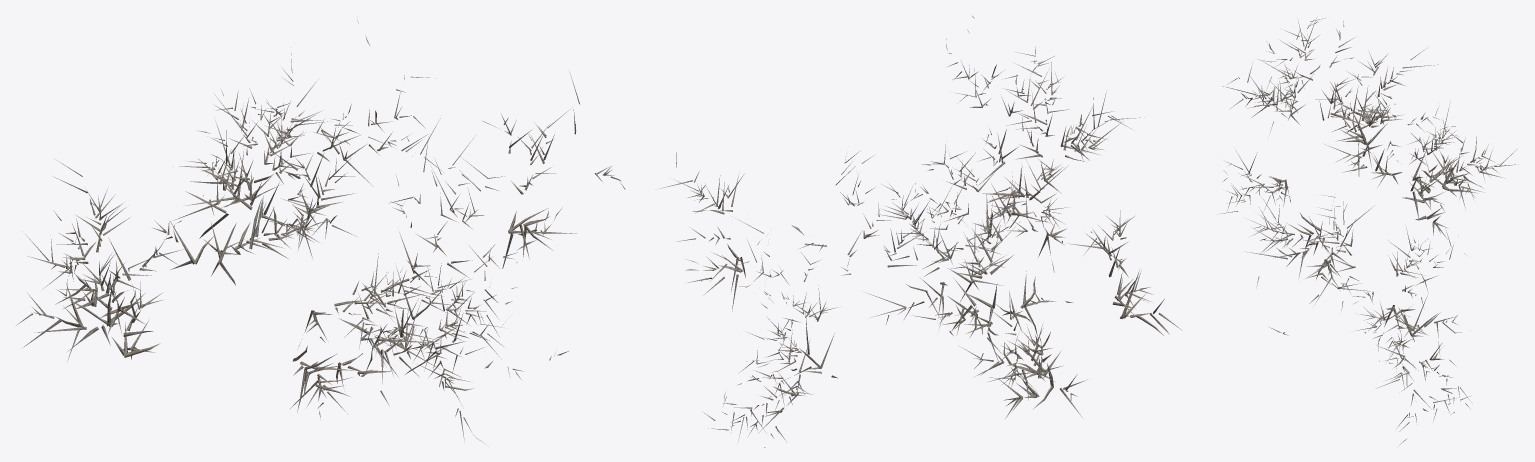
File: tree_b.glb
3 views of the same model, side by side, from view 1: azimuth 30°, elevation 25°; view 2: azimuth 150°, elevation 25°; view 3: azimuth 270°, elevation 25° (orthographic). The views are drawn at different scales.
Visible parts, largest first — view 1: Object_8; view 2: Object_8; view 3: Object_8.
Boxes of the visible parts, x1=… form: Object_8: x1=16, y1=16, x2=625, y2=443; Object_8: x1=659, y1=16, x2=1182, y2=447; Object_8: x1=1218, y1=18, x2=1518, y2=445.
Bounding box in the file's own units: 4.33 × 3.72 × 2.85.
Materials: 1 (1 with a texture image).
